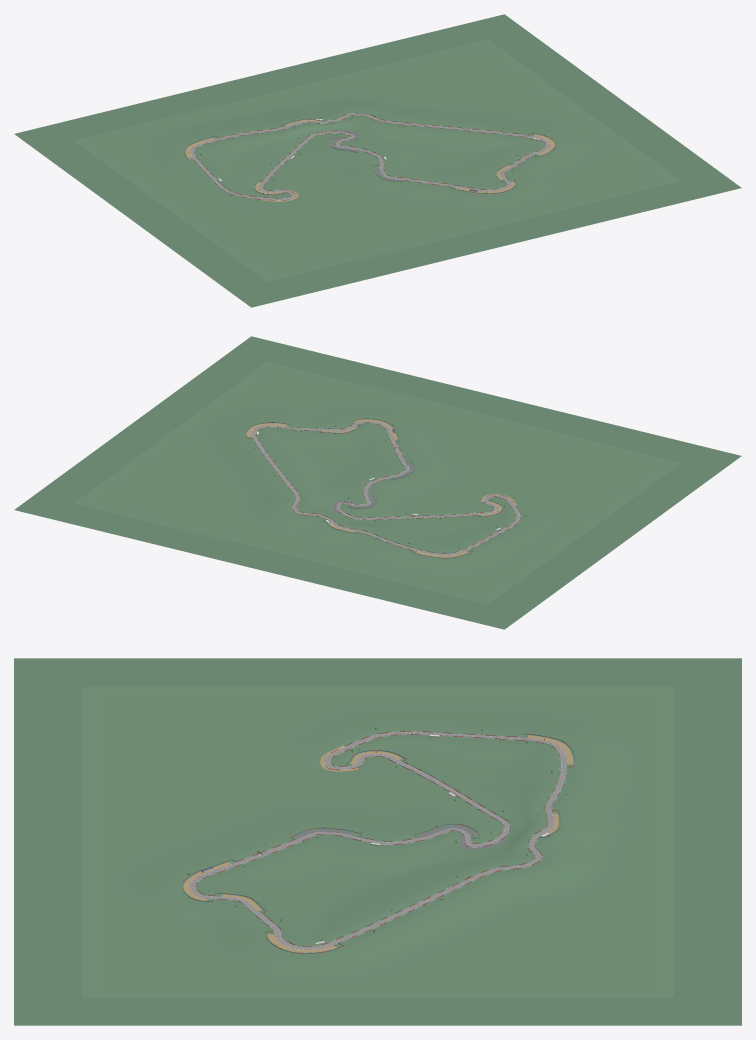
The model's file is silverstone.glb.
3 renders of one model, top to bottom at view 1: azimuth 30°, elevation 25°; view 2: azimuth 150°, elevation 25°; view 3: azimuth 270°, elevation 25°, orthographic. The views are drawn at different scales.
Visible parts, largest first — view 1: terrain_infield, terrain_outskirts, terrain_verge, track_surface, track_runoff, continuous_safety_barriers, track_embankment, gravel_runoff_zones; view 2: terrain_infield, terrain_outskirts, terrain_verge, track_surface, track_runoff, continuous_safety_barriers, track_embankment, gravel_runoff_zones; view 3: terrain_infield, terrain_outskirts, terrain_verge, track_surface, track_runoff, continuous_safety_barriers, track_embankment, gravel_runoff_zones, track_curbs, asphalt_runoff_zones.
Boxes of the visible parts, box(x1,y1,x2,y2) form: terrain_infield: box(96, 49, 659, 272); terrain_outskirts: box(14, 14, 741, 307); terrain_verge: box(74, 39, 681, 282); track_surface: box(191, 113, 549, 200); track_runoff: box(190, 113, 550, 200); continuous_safety_barriers: box(184, 113, 555, 200); track_embankment: box(192, 113, 545, 199); gravel_runoff_zones: box(186, 119, 554, 201); terrain_infield: box(96, 371, 659, 594); terrain_outskirts: box(14, 336, 741, 629); terrain_verge: box(74, 361, 681, 604); track_surface: box(252, 421, 519, 555); track_runoff: box(251, 421, 520, 555); continuous_safety_barriers: box(246, 418, 521, 558); track_embankment: box(251, 422, 521, 553); gravel_runoff_zones: box(246, 419, 517, 557); terrain_infield: box(106, 697, 649, 986); terrain_outskirts: box(14, 658, 741, 1025); terrain_verge: box(81, 687, 674, 996); track_surface: box(190, 732, 565, 949); track_runoff: box(189, 731, 566, 949); continuous_safety_barriers: box(181, 731, 575, 953); track_embankment: box(195, 731, 568, 946); gravel_runoff_zones: box(183, 735, 573, 952); track_curbs: box(189, 732, 565, 949); asphalt_runoff_zones: box(294, 825, 506, 849).
Bounding box in the file's own units: 2827 × 20.61 × 2370.
